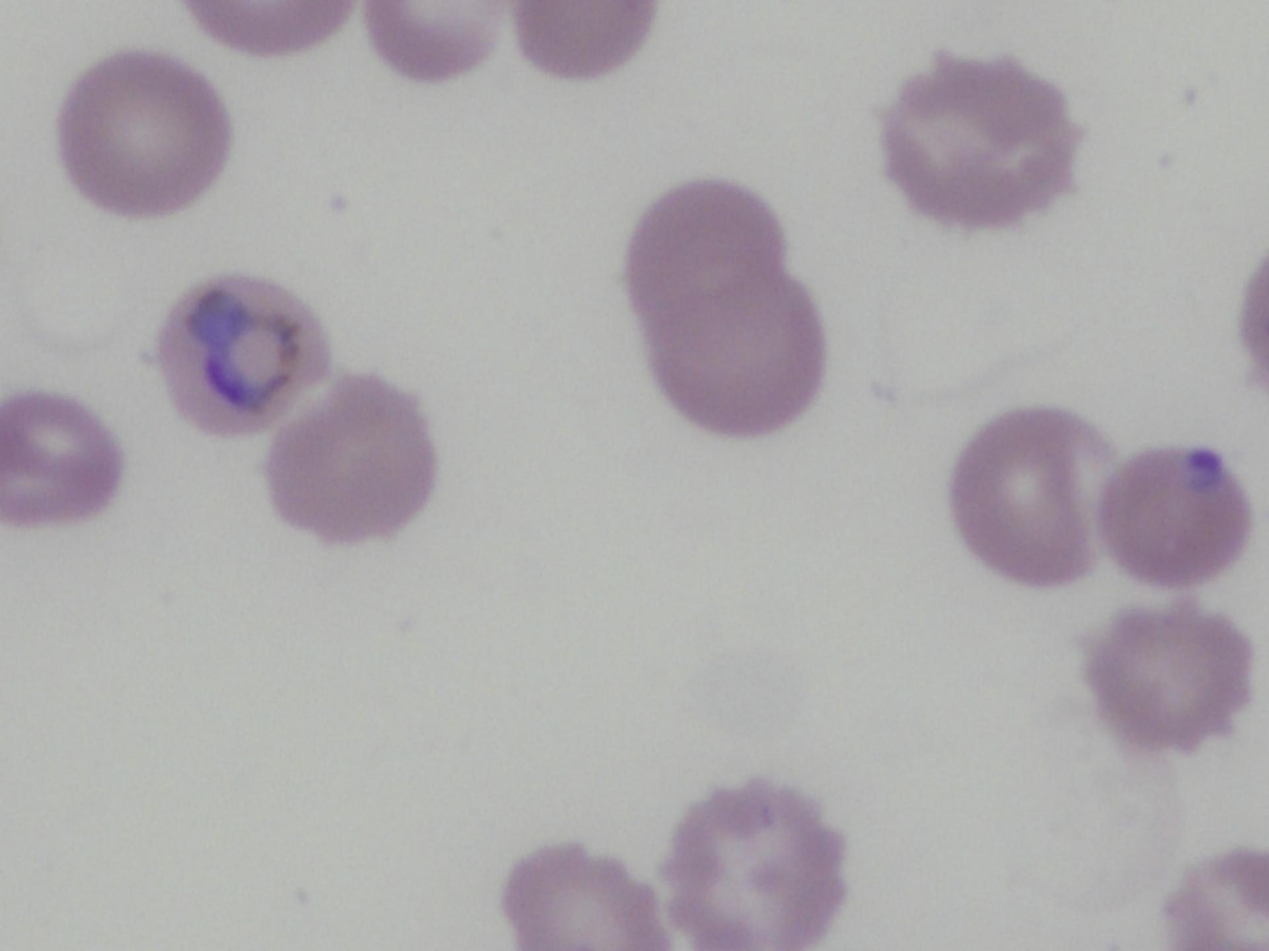Infected: (163, 269, 330, 439), (1099, 446, 1260, 589)
Uninfected: (623, 181, 824, 431), (877, 62, 1087, 230), (262, 366, 436, 543), (952, 408, 1121, 587), (59, 51, 235, 220), (670, 781, 836, 951), (1091, 607, 1257, 752)
